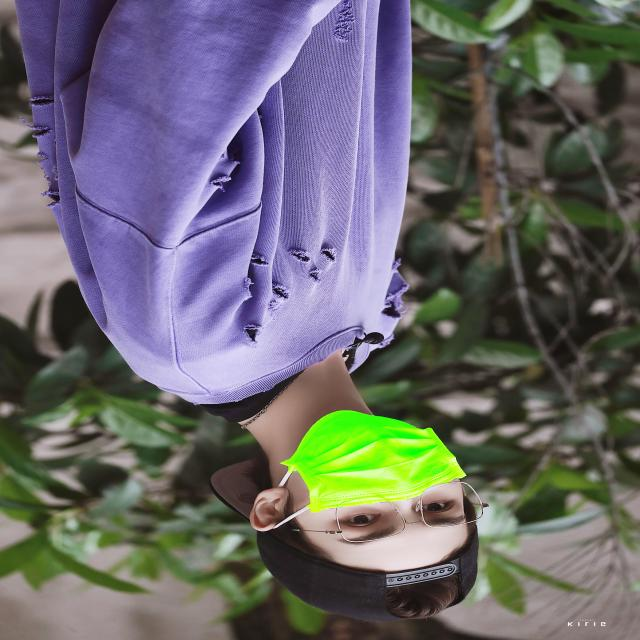Mask: (232, 404, 492, 525)
